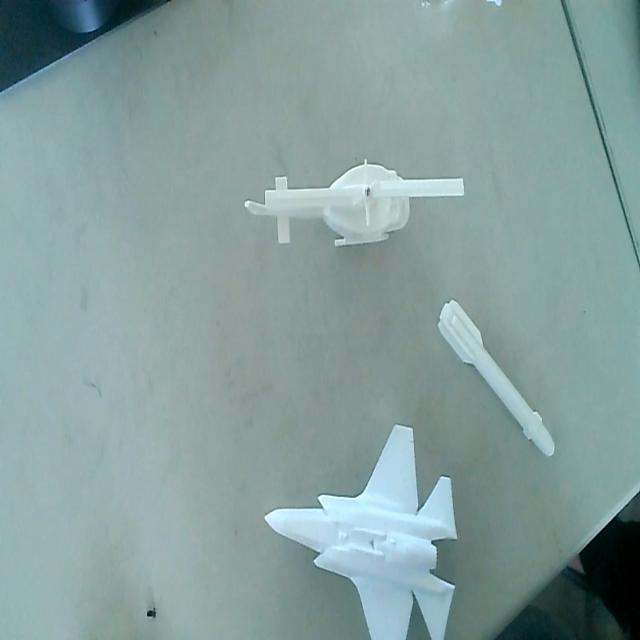Helicopter: (245, 159, 469, 255)
Jet: (263, 419, 462, 640)
Rocket: (436, 292, 556, 460)
